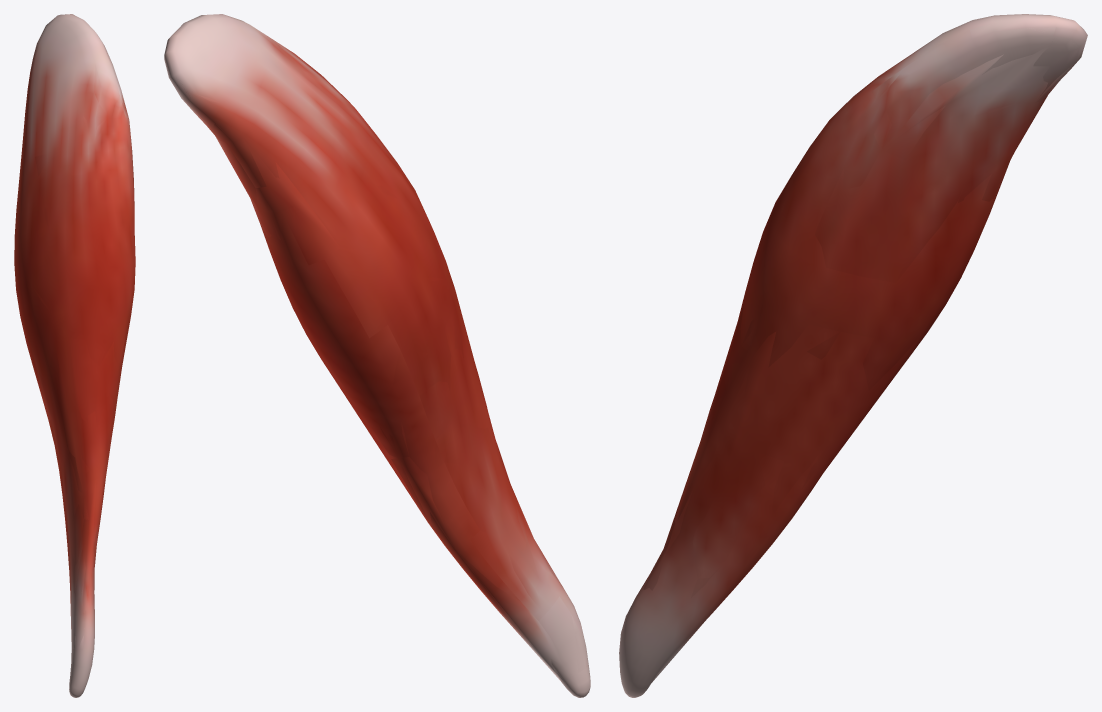
The model's file is R Adductor.fbx.
3 views of the same model, side by side, from view 1: azimuth 30°, elevation 25°; view 2: azimuth 150°, elevation 25°; view 3: azimuth 270°, elevation 25° (orthographic). The views are drawn at different scales.
Parts seen in each view (by area): view 1: R Adductor, R Adductor low; view 2: R Adductor, R Adductor low; view 3: R Adductor, R Adductor low.
Boxes of the visible parts, box(x1,y1,x2,y2) form: R Adductor: box(14, 14, 135, 697); R Adductor low: box(14, 16, 129, 694); R Adductor: box(164, 14, 590, 697); R Adductor low: box(166, 15, 590, 690); R Adductor: box(619, 14, 1087, 697); R Adductor low: box(632, 15, 1077, 682).
Size of the model in its own units: 10.05 by 33.83 by 18.42.
